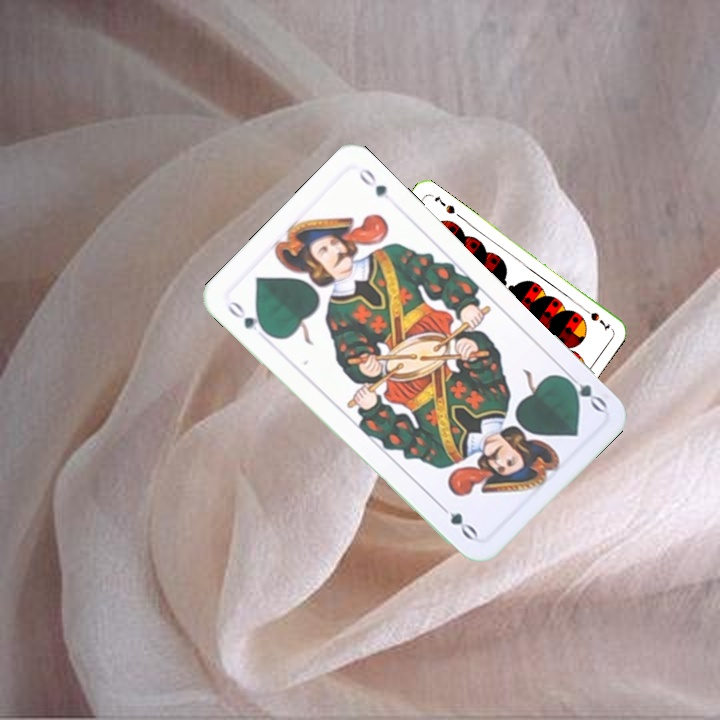GO: (557, 367, 609, 415), (223, 297, 273, 338)
S7: (578, 303, 613, 333)
